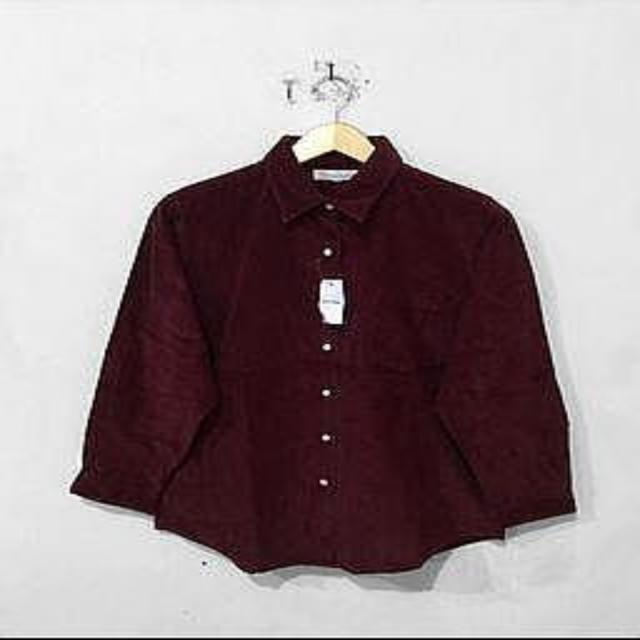SHIRT: (64, 121, 602, 584)
